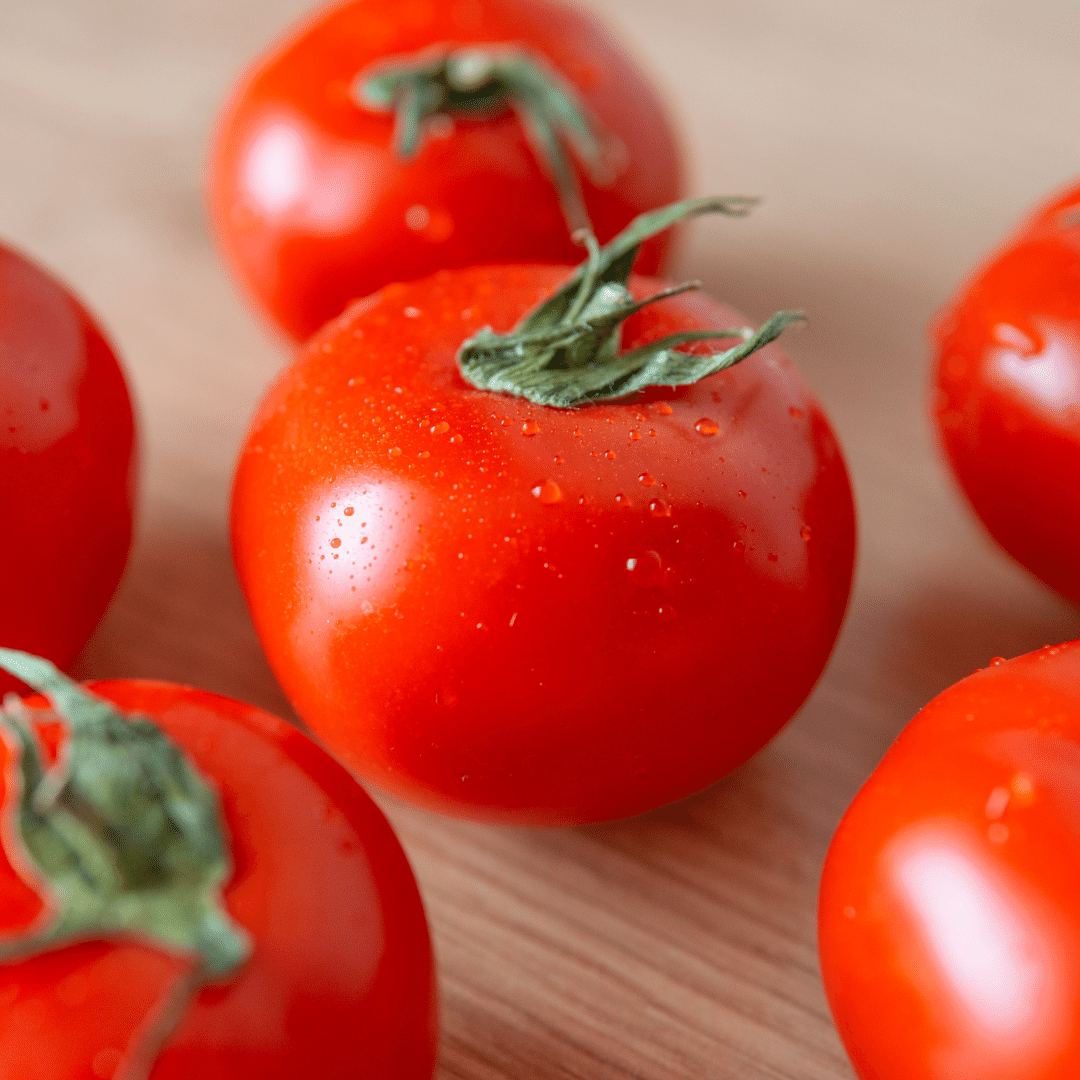tomato: (1, 2, 1080, 1080)
